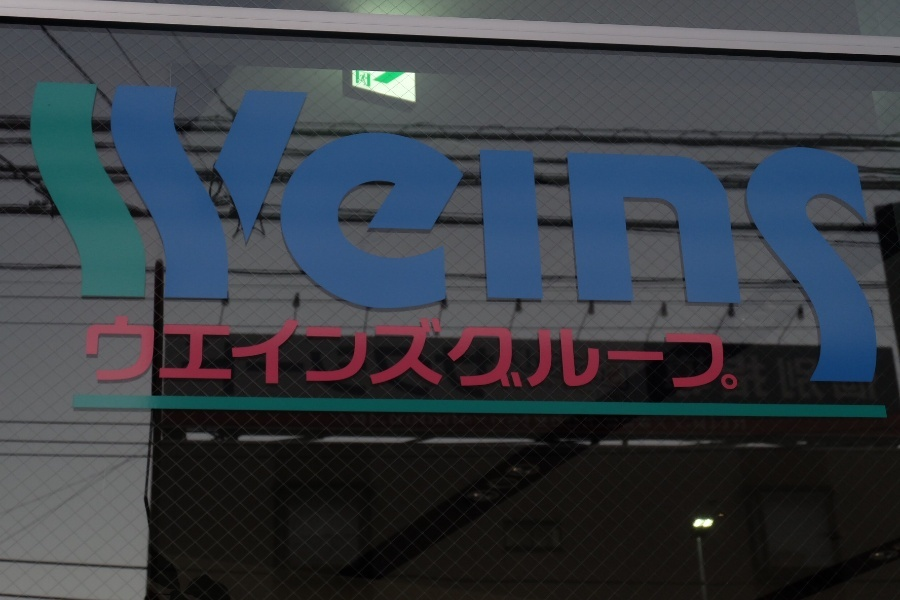text: (33, 84, 48, 390), (49, 84, 64, 390), (65, 84, 80, 390), (81, 84, 96, 390), (97, 84, 112, 390), (113, 84, 128, 390), (129, 84, 144, 390), (145, 84, 160, 390), (161, 84, 176, 390), (177, 84, 192, 390), (193, 84, 208, 390), (209, 84, 224, 390), (225, 84, 240, 390), (241, 84, 256, 390), (257, 84, 272, 390), (273, 84, 288, 390), (289, 84, 304, 390), (305, 84, 320, 390), (321, 84, 336, 390), (337, 84, 352, 390), (353, 84, 368, 390), (369, 84, 384, 390), (385, 84, 400, 390), (401, 84, 416, 390), (417, 84, 432, 390), (433, 84, 448, 390), (449, 84, 464, 390), (465, 84, 480, 390), (481, 84, 496, 390), (497, 84, 512, 390), (513, 84, 528, 390), (529, 84, 544, 390), (545, 84, 560, 390), (561, 84, 576, 390), (577, 84, 592, 390), (593, 84, 608, 390), (609, 84, 624, 390), (625, 84, 640, 390), (641, 84, 656, 390), (657, 84, 672, 390), (673, 84, 688, 390), (689, 84, 704, 390), (705, 84, 720, 390), (721, 84, 736, 390), (737, 84, 752, 390), (753, 84, 768, 390), (769, 84, 784, 390), (785, 84, 800, 390), (801, 84, 816, 390), (817, 84, 832, 390), (833, 84, 848, 390), (849, 84, 864, 390), (865, 84, 877, 390), (97, 315, 112, 389), (113, 315, 128, 389), (129, 315, 144, 389), (145, 315, 160, 389), (161, 315, 176, 389), (177, 315, 192, 389), (193, 315, 208, 389), (209, 315, 224, 389), (225, 315, 240, 389), (241, 315, 256, 389), (257, 315, 272, 389), (273, 315, 288, 389), (289, 315, 304, 389), (305, 315, 320, 389), (321, 315, 336, 389), (337, 315, 352, 389), (353, 315, 368, 389), (369, 315, 384, 389), (385, 315, 400, 389), (401, 315, 416, 389), (417, 315, 432, 389), (433, 315, 448, 389), (449, 315, 464, 389), (465, 315, 480, 389), (481, 315, 496, 389), (497, 315, 512, 389), (513, 315, 528, 389), (529, 315, 544, 389), (545, 315, 560, 389), (561, 315, 576, 389), (577, 315, 592, 389), (593, 315, 608, 389), (609, 315, 624, 389), (625, 315, 640, 389), (641, 315, 656, 389), (657, 315, 672, 389), (673, 315, 688, 389), (689, 315, 704, 389), (705, 315, 720, 389), (721, 315, 736, 389), (193, 339, 208, 403), (209, 339, 224, 403), (225, 339, 240, 403), (241, 339, 256, 403), (257, 339, 272, 403), (273, 339, 288, 403), (289, 339, 304, 403), (305, 339, 320, 403), (321, 339, 336, 403), (337, 339, 352, 403), (353, 339, 368, 403), (369, 339, 384, 403), (385, 339, 400, 403), (401, 339, 416, 403), (417, 339, 432, 403), (433, 339, 448, 403), (449, 339, 464, 403), (465, 339, 480, 403), (481, 339, 496, 403), (497, 339, 512, 403), (513, 339, 528, 403), (529, 339, 544, 403), (545, 339, 560, 403), (561, 339, 576, 403), (577, 339, 592, 403), (593, 339, 608, 403), (609, 339, 624, 403), (625, 339, 640, 403), (641, 339, 656, 403), (657, 339, 672, 403), (673, 339, 688, 403), (689, 339, 704, 403), (705, 339, 720, 403), (721, 339, 736, 403), (737, 339, 752, 403), (753, 339, 768, 403), (769, 339, 784, 403), (785, 339, 800, 403), (801, 339, 816, 403), (817, 339, 832, 403), (833, 339, 848, 403), (849, 339, 864, 403), (865, 339, 880, 403), (182, 339, 192, 403), (30, 84, 32, 390), (89, 315, 96, 389), (737, 315, 739, 389)
